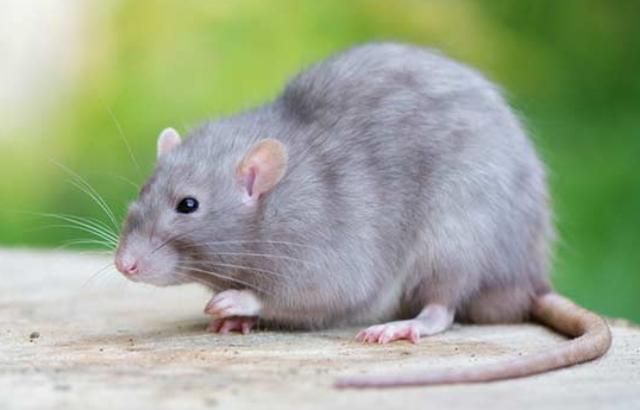rat: (65, 31, 621, 393)
